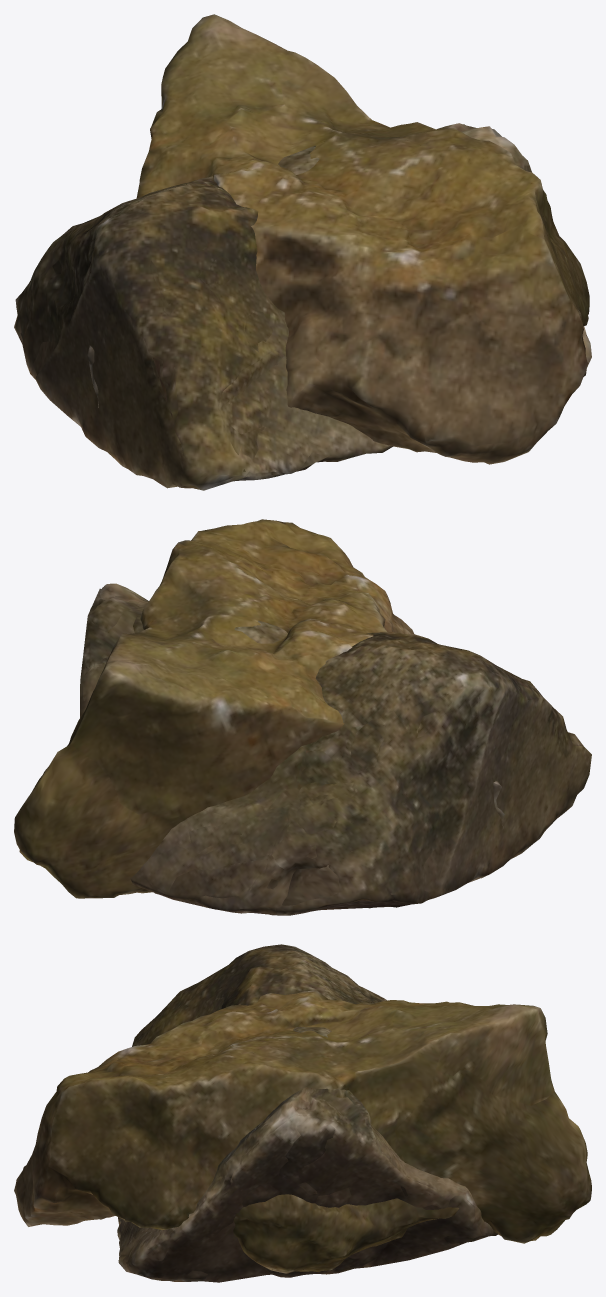
Rendered from sample.gltf.
3 views of the same model, one above another, from view 1: azimuth 30°, elevation 25°; view 2: azimuth 150°, elevation 25°; view 3: azimuth 270°, elevation 25° (orthographic). The views are drawn at different scales.
Parts seen in each view (by area): view 1: rock_06, rock_03, pebble_03; view 2: rock_06, rock_03, pebble_03; view 3: rock_06, rock_03, pebble_03.
Boxes of the visible parts, x1,y1,x2,y2 form: rock_06: (87, 14, 589, 464); rock_03: (14, 123, 591, 490); pebble_03: (20, 129, 586, 490); rock_06: (14, 519, 504, 898); rock_03: (82, 583, 591, 915); pebble_03: (80, 588, 567, 915); rock_06: (14, 990, 591, 1273); rock_03: (117, 944, 494, 1281); pebble_03: (118, 964, 497, 1282).
Bounding box in the file's own units: 2.13 × 1.26 × 2.76.
1 material, 1 textured.
